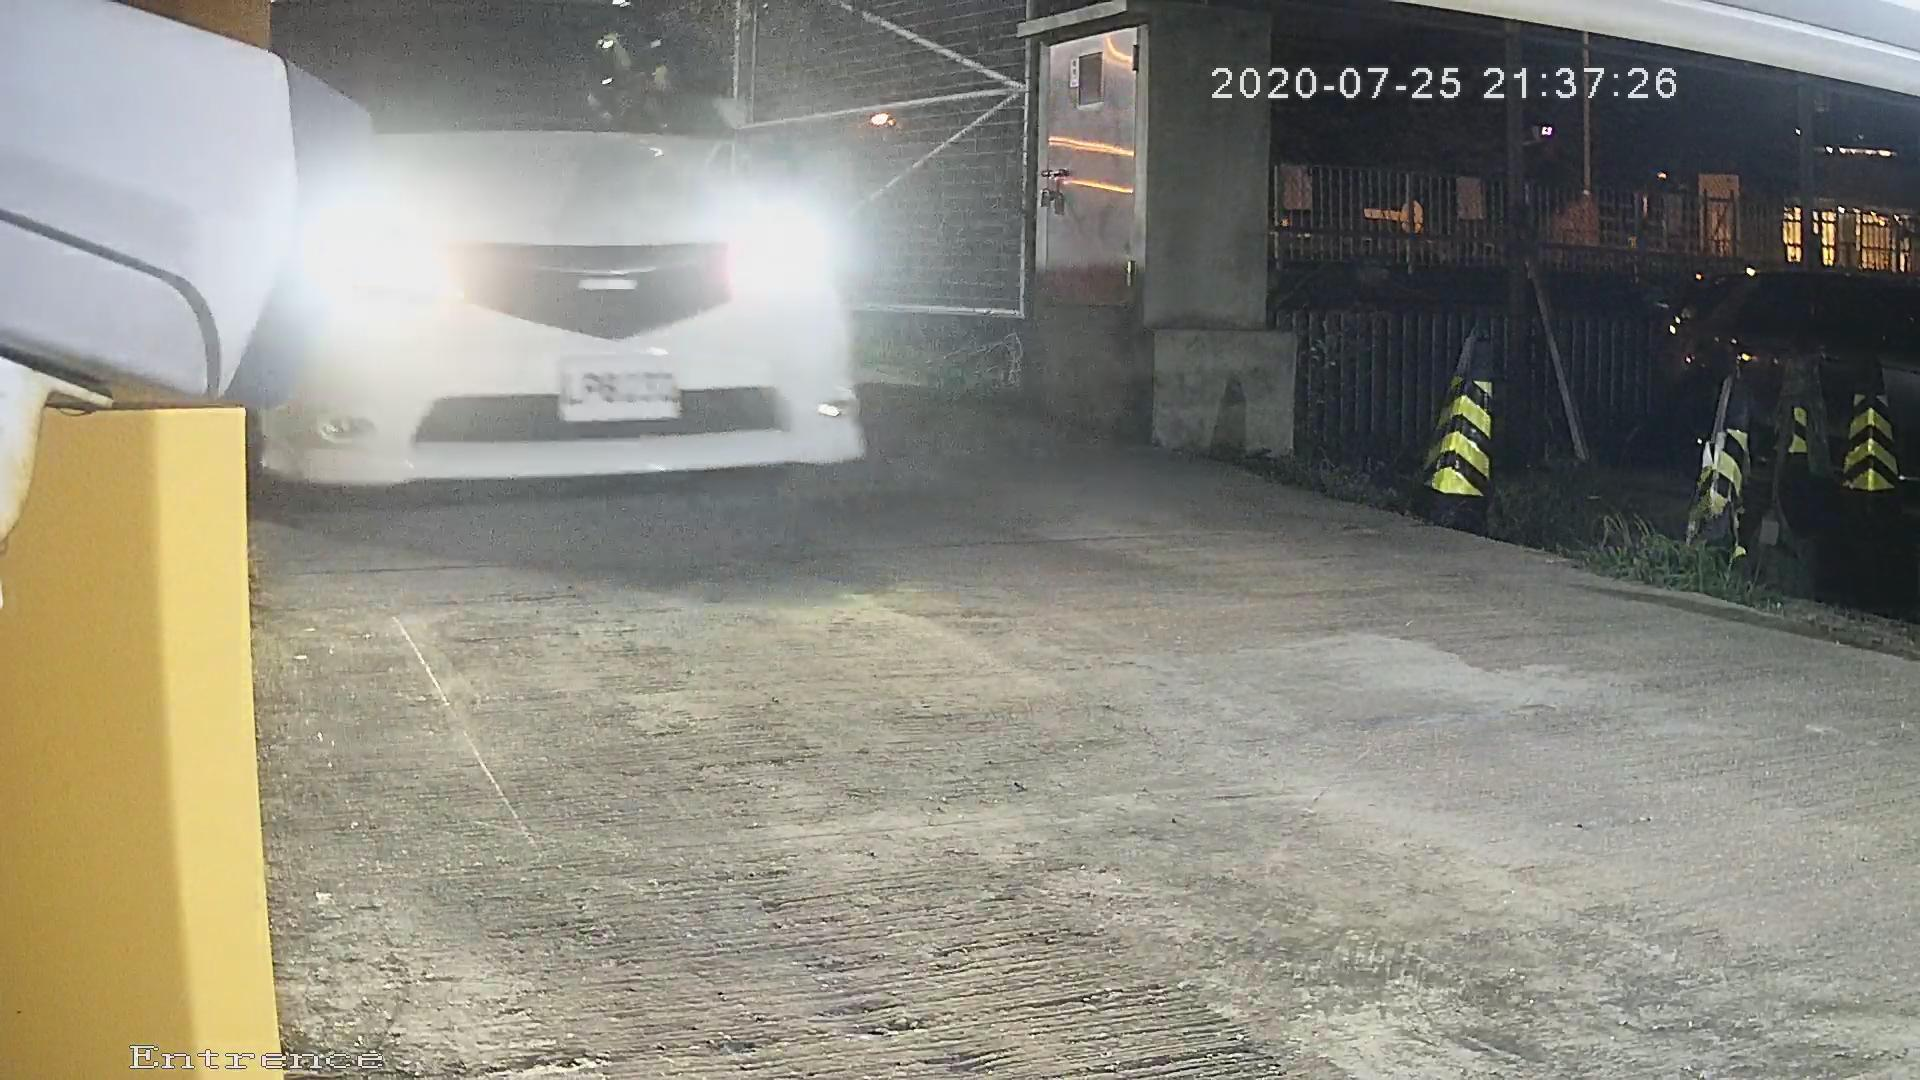privatecar: (181, 25, 884, 531)
